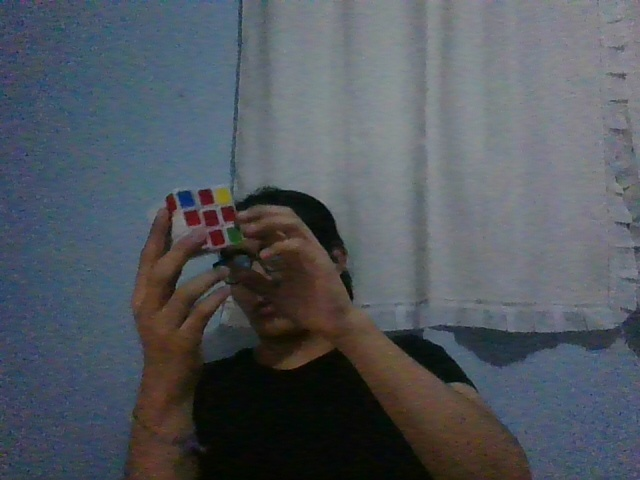rubik: (146, 185, 245, 259)
